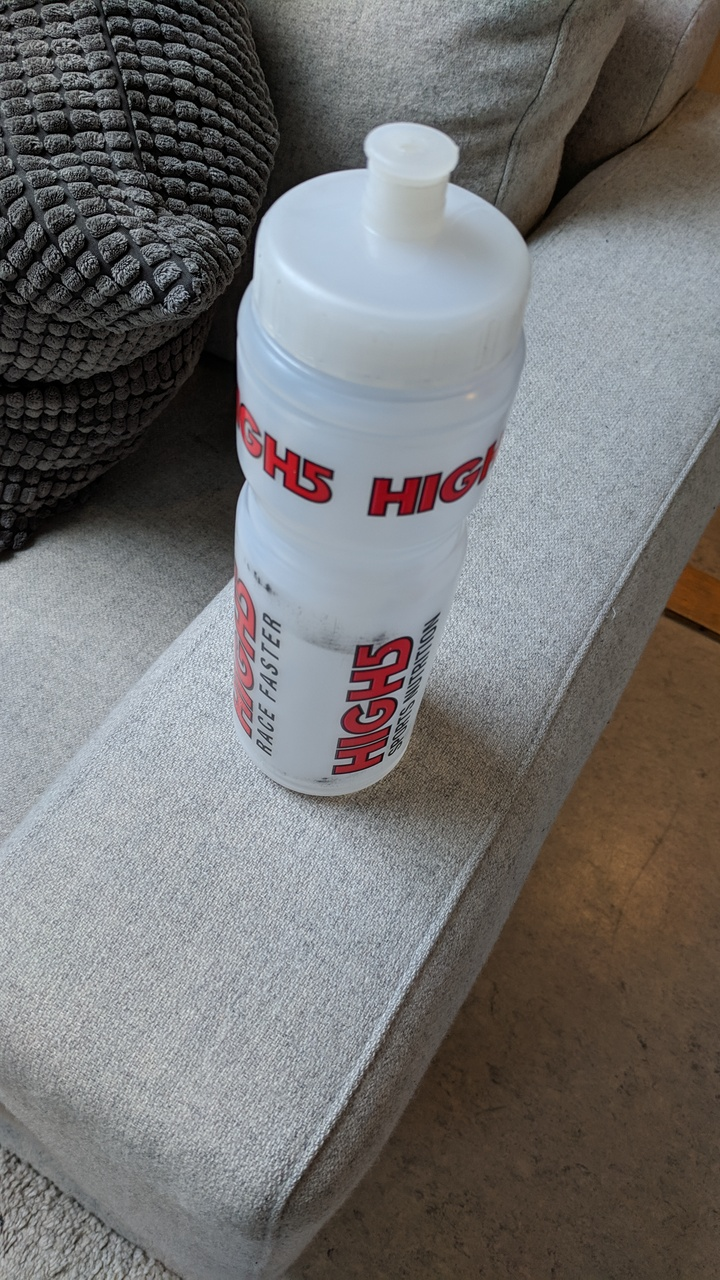high five bottle: (218, 116, 536, 813)
